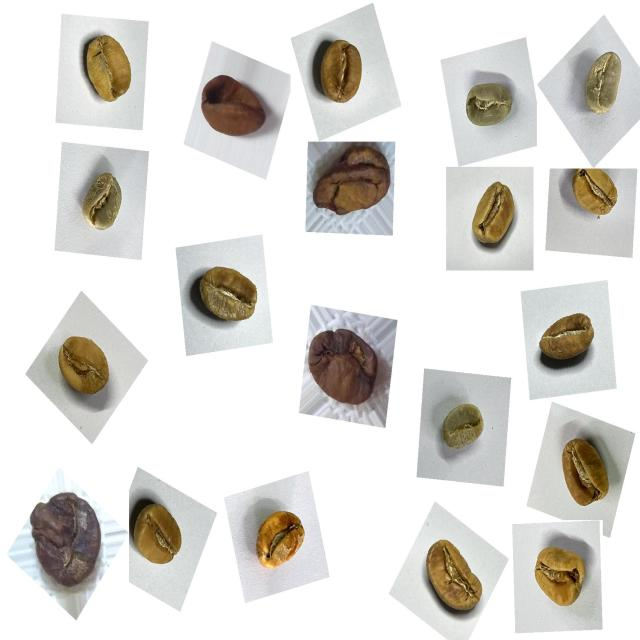bad: (20, 483, 111, 599), (300, 315, 396, 421), (307, 136, 397, 232), (194, 65, 275, 156)
green: (68, 164, 135, 246), (571, 45, 633, 126), (456, 74, 522, 143), (431, 391, 494, 463)
light: (411, 529, 490, 627), (186, 251, 268, 338), (69, 25, 141, 117), (306, 28, 378, 118), (548, 428, 618, 518), (530, 299, 605, 382), (49, 327, 121, 412), (526, 534, 597, 620), (460, 175, 528, 263), (244, 501, 315, 585), (126, 488, 192, 578), (566, 164, 626, 229)
